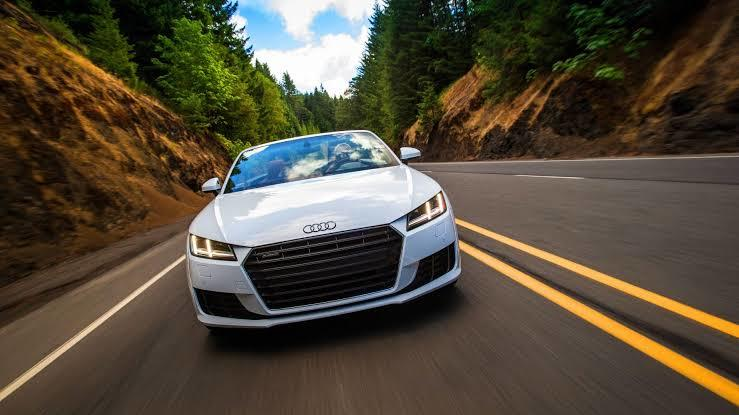audi: (183, 126, 462, 338)
